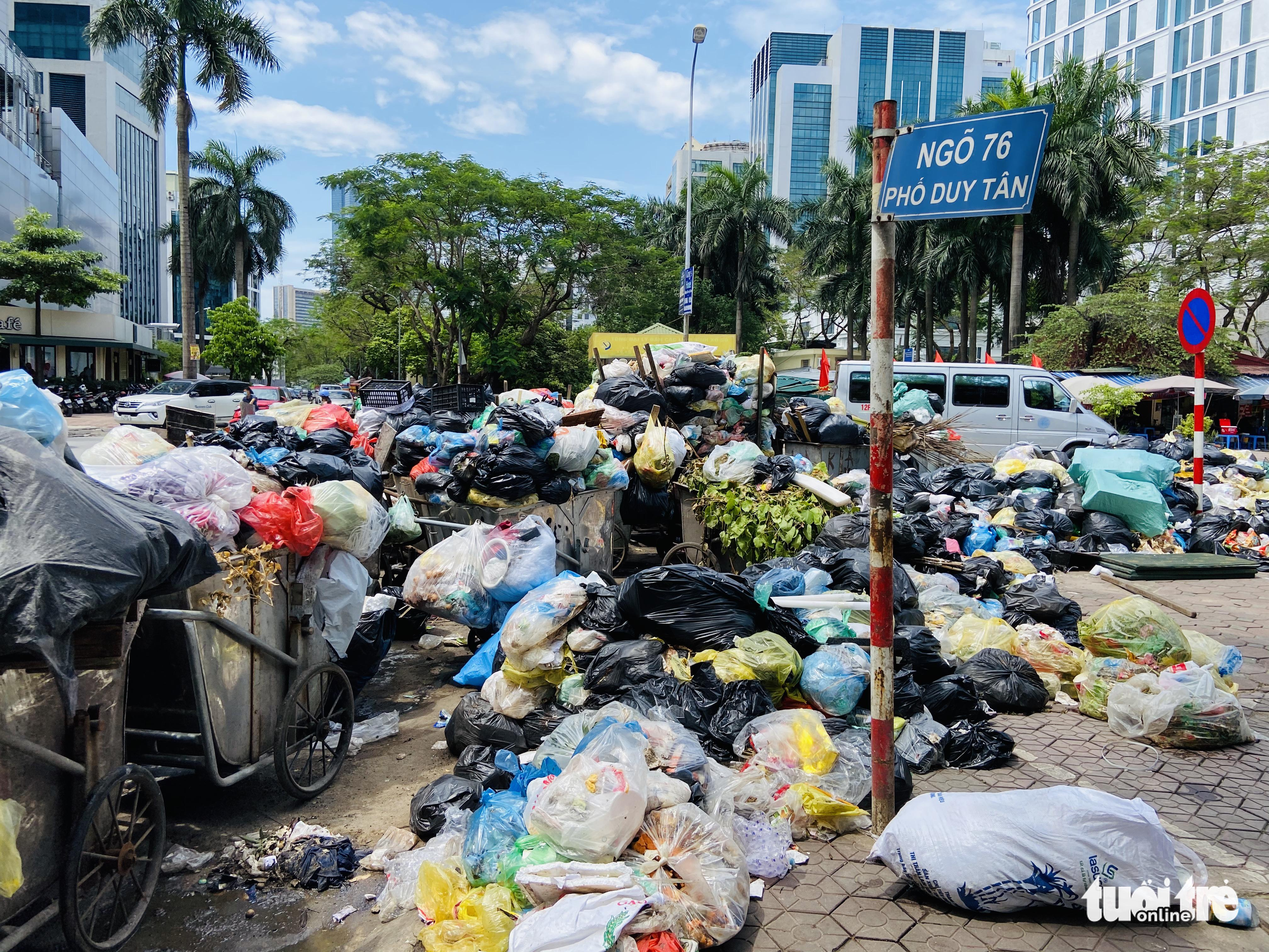garbage: (0, 364, 1257, 952)
